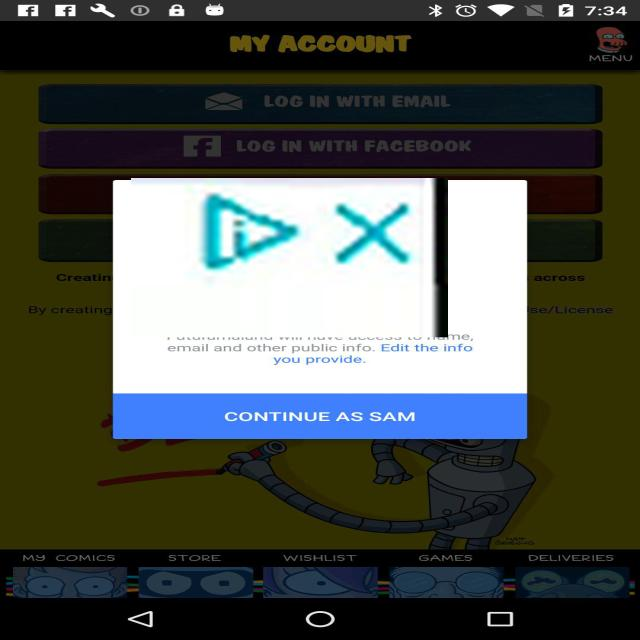sneaking: (131, 178, 448, 337)
